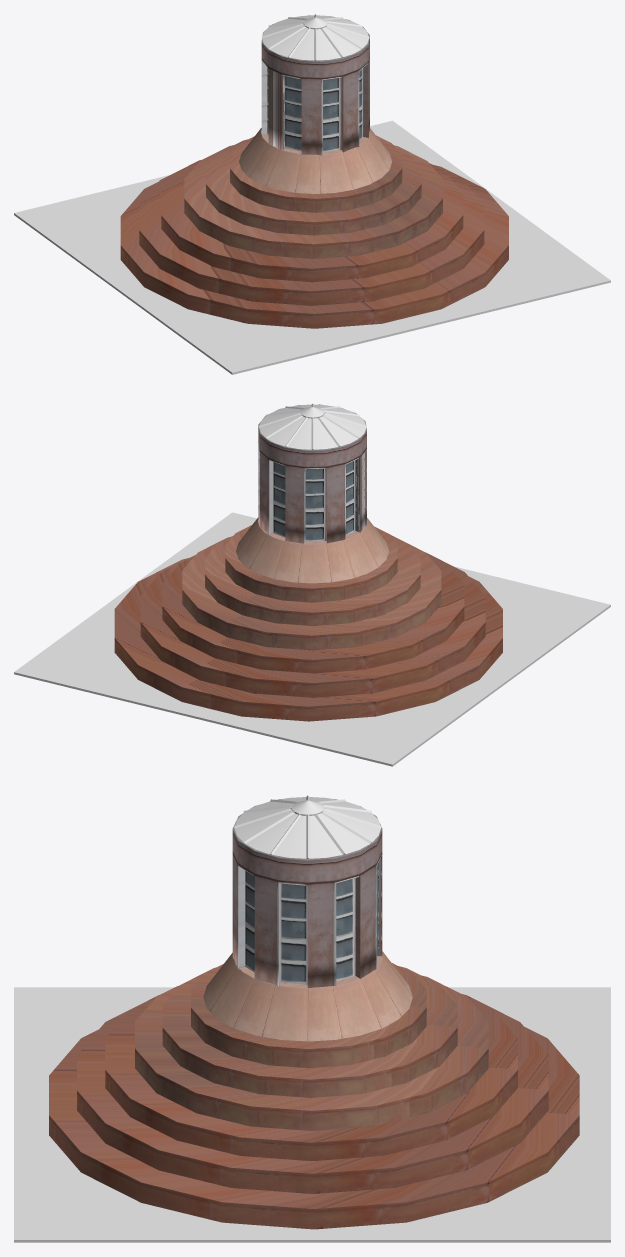
The model's file is Nipple.FBX.
3 views of the same model, one above another, from view 1: azimuth 30°, elevation 25°; view 2: azimuth 150°, elevation 25°; view 3: azimuth 270°, elevation 25° (orthographic). The views are drawn at different scales.
Visible parts, largest first — view 1: Box001, Cylinder001, Cylinder002, Cylinder007, Cylinder003, Cylinder004, Cylinder006, Cone001, Cylinder005, Cone002; view 2: Box001, Cylinder001, Cylinder002, Cylinder007, Cylinder003, Cylinder004, Cylinder006, Cone001, Cylinder005, Cone002; view 3: Box001, Cylinder001, Cylinder002, Cylinder007, Cylinder003, Cylinder004, Cylinder006, Cone001, Cylinder005, Cone002.
Boxes of the visible parts, <box> form: Box001: <box>14,120,610,374</box>; Cylinder001: <box>120,165,508,328</box>; Cylinder002: <box>139,160,484,305</box>; Cylinder007: <box>261,15,369,155</box>; Cylinder003: <box>161,162,463,282</box>; Cylinder004: <box>184,145,442,258</box>; Cylinder006: <box>206,139,421,235</box>; Cone001: <box>239,128,392,193</box>; Cylinder005: <box>230,135,402,212</box>; Cone002: <box>261,14,369,60</box>; Box001: <box>14,512,610,766</box>; Cylinder001: <box>114,558,502,721</box>; Cylinder002: <box>140,553,485,697</box>; Cylinder007: <box>258,404,366,543</box>; Cylinder003: <box>162,553,464,673</box>; Cylinder004: <box>182,537,441,650</box>; Cylinder006: <box>205,533,420,625</box>; Cone001: <box>236,517,388,583</box>; Cylinder005: <box>225,525,397,602</box>; Cone002: <box>259,403,366,449</box>; Box001: <box>14,987,610,1242</box>; Cylinder001: <box>49,1027,579,1229</box>; Cylinder002: <box>77,994,548,1193</box>; Cylinder007: <box>232,799,382,987</box>; Cylinder003: <box>105,986,517,1161</box>; Cylinder004: <box>135,975,488,1130</box>; Cylinder006: <box>162,966,457,1097</box>; Cone001: <box>203,951,412,1041</box>; Cylinder005: <box>191,963,426,1068</box>; Cone002: <box>234,795,381,858</box>.
Bounding box in the file's own units: 39.93 × 23.35 × 39.89.
